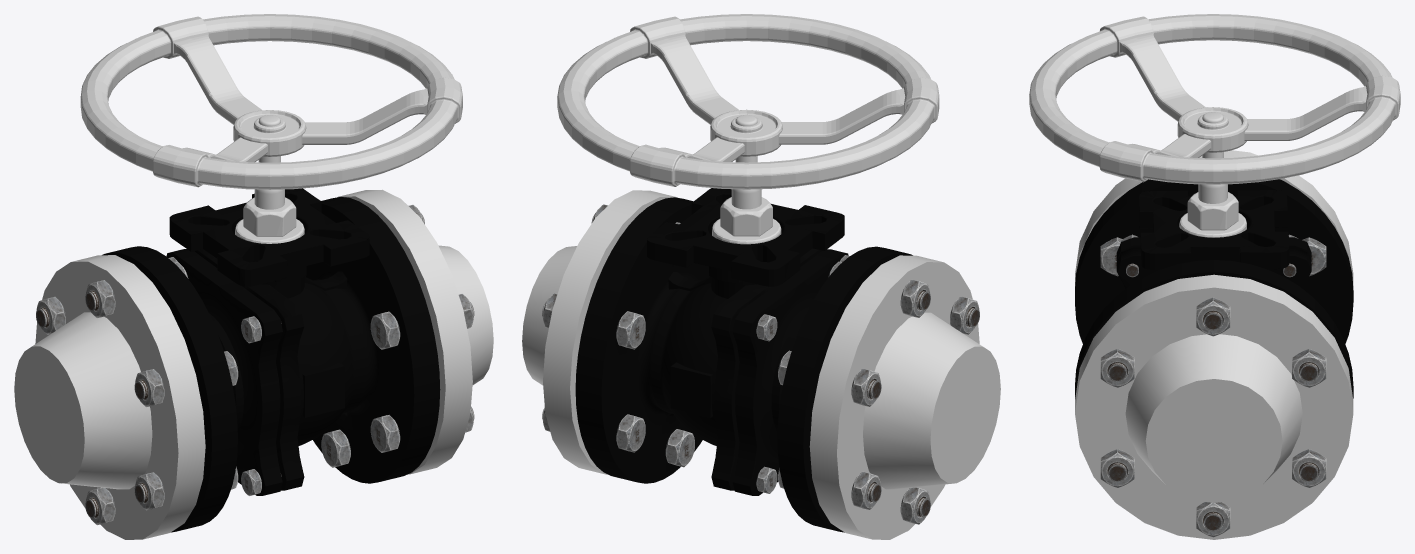
Rendered from Ball valve.fbx.
3 views of the same model, side by side, from view 1: azimuth 30°, elevation 25°; view 2: azimuth 150°, elevation 25°; view 3: azimuth 270°, elevation 25° (orthographic). The views are drawn at different scales.
Visible parts, largest first — view 1: Ball valve, Ball valve_Hand; view 2: Ball valve, Ball valve_Hand; view 3: Ball valve, Ball valve_Hand.
Boxes of the visible parts, x1,y1,x2,y2 form: Ball valve: (14,188,493,539); Ball valve_Hand: (80,14,462,243); Ball valve: (522,188,1000,539); Ball valve_Hand: (557,14,939,244); Ball valve: (1075,150,1353,539); Ball valve_Hand: (1029,14,1400,237).
Bounding box in the file's own units: 69.15 × 65.4 × 55.99.
2 materials, 1 textured.
